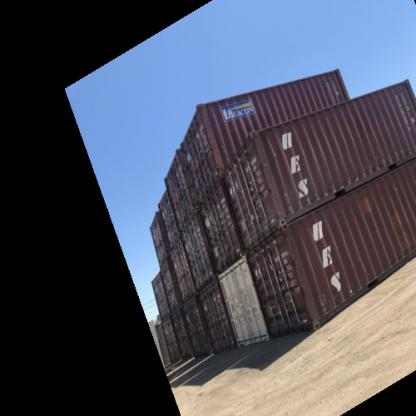Damage: (286, 248, 304, 290)
